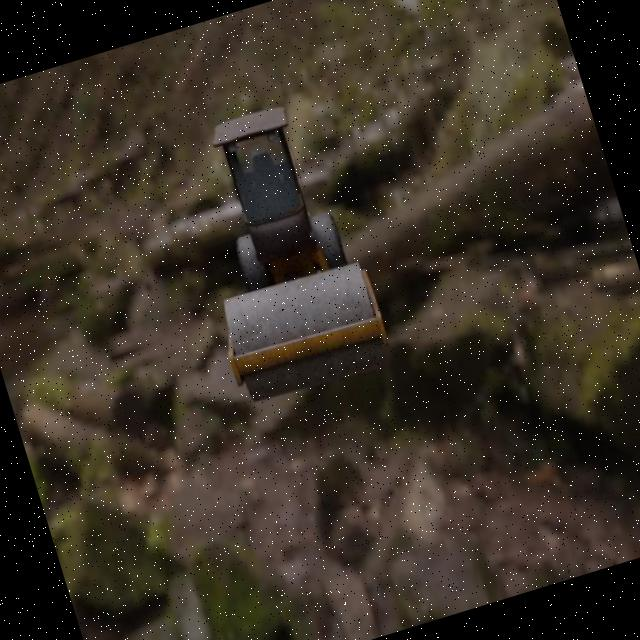Roller: (161, 93, 395, 410)
